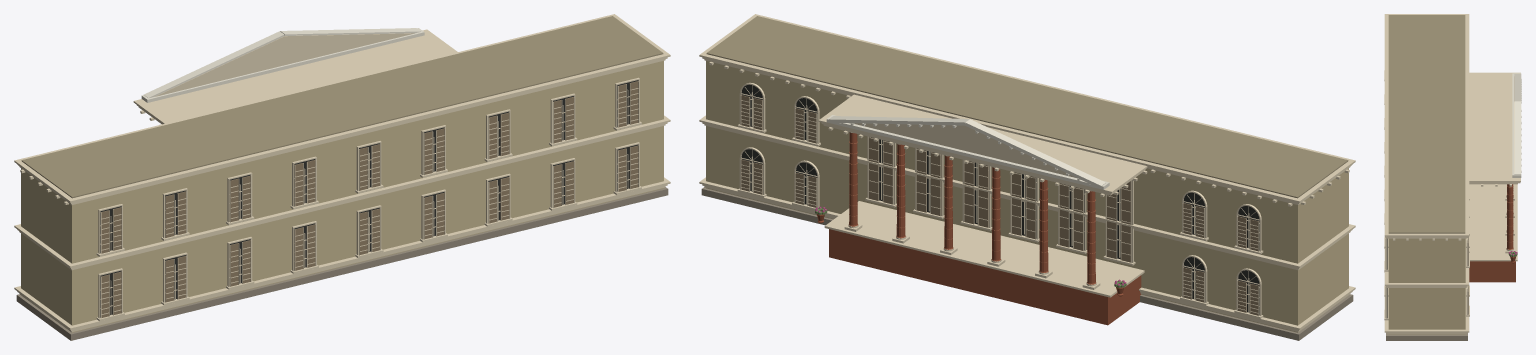
The model's file is KOL_T1_RAJBARI__01_Rear_Mansion.fbx.
The picture shows the model from 3 angles, left to right: view 1: azimuth 30°, elevation 25°; view 2: azimuth 150°, elevation 25°; view 3: azimuth 270°, elevation 25°; orthographic projection. The views are drawn at different scales.
Parts seen in each view (by area): view 1: KOL_T1_RAJBARI__01_Rear_Mansion__KOL_T1_EstatePlaster, KOL_T1_RAJBARI__01_Rear_Mansion__KOL_T1_EstateRoof, KOL_T1_RAJBARI__01_Rear_Mansion__KOL_T1_EstateIvory, KOL_T1_RAJBARI__01_Rear_Mansion__KOL_T1_EstateTaupe, KOL_T1_RAJBARI__01_Rear_Mansion__KOL_T1_EstateIvory.001, KOL_T1_RAJBARI__01_Rear_Mansion__KOL_T1_EstateStone, KOL_T1_RAJBARI__01_Rear_Mansion__KOL_T1_EstateIvory.002, KOL_T1_RAJBARI__01_Rear_Mansion__KOL_T1_EstateWhite, KOL_T1_RAJBARI__01_Rear_Mansion__KOL_T1_HeritageDark; view 2: KOL_T1_RAJBARI__01_Rear_Mansion__KOL_T1_EstateIvory, KOL_T1_RAJBARI__01_Rear_Mansion__KOL_T1_EstatePlaster, KOL_T1_RAJBARI__01_Rear_Mansion__KOL_T1_EstateRoof, KOL_T1_RAJBARI__01_Rear_Mansion__KOL_T1_EstateBrick, KOL_T1_RAJBARI__01_Rear_Mansion__KOL_T1_EstateTaupe, KOL_T1_RAJBARI__01_Rear_Mansion__KOL_T1_EstateWhite, KOL_T1_RAJBARI__01_Rear_Mansion__KOL_T1_HeritageDark, KOL_T1_RAJBARI__01_Rear_Mansion__KOL_T1_EstateIvory.001, KOL_T1_RAJBARI__01_Rear_Mansion__KOL_T1_EstateStone, KOL_T1_RAJBARI__01_Rear_Mansion__KOL_T1_EstateBrickLight; view 3: KOL_T1_RAJBARI__01_Rear_Mansion__KOL_T1_EstateRoof, KOL_T1_RAJBARI__01_Rear_Mansion__KOL_T1_EstateIvory, KOL_T1_RAJBARI__01_Rear_Mansion__KOL_T1_EstatePlaster, KOL_T1_RAJBARI__01_Rear_Mansion__KOL_T1_EstateBrick, KOL_T1_RAJBARI__01_Rear_Mansion__KOL_T1_EstateWhite, KOL_T1_RAJBARI__01_Rear_Mansion__KOL_T1_EstateStone, KOL_T1_RAJBARI__01_Rear_Mansion__KOL_T1_EstateIvory.002, KOL_T1_RAJBARI__01_Rear_Mansion__KOL_T1_EstateIvory.001.
Part boxes in pixels (x1=…): KOL_T1_RAJBARI__01_Rear_Mansion__KOL_T1_EstatePlaster: x1=21, y1=61, x2=663, y2=332; KOL_T1_RAJBARI__01_Rear_Mansion__KOL_T1_EstateRoof: x1=21, y1=16, x2=663, y2=198; KOL_T1_RAJBARI__01_Rear_Mansion__KOL_T1_EstateIvory: x1=14, y1=14, x2=670, y2=332; KOL_T1_RAJBARI__01_Rear_Mansion__KOL_T1_EstateTaupe: x1=101, y1=81, x2=638, y2=317; KOL_T1_RAJBARI__01_Rear_Mansion__KOL_T1_EstateIvory.001: x1=96, y1=125, x2=447, y2=321; KOL_T1_RAJBARI__01_Rear_Mansion__KOL_T1_EstateStone: x1=16, y1=187, x2=668, y2=340; KOL_T1_RAJBARI__01_Rear_Mansion__KOL_T1_EstateIvory.002: x1=423, y1=77, x2=641, y2=226; KOL_T1_RAJBARI__01_Rear_Mansion__KOL_T1_EstateWhite: x1=141, y1=28, x2=424, y2=102; KOL_T1_RAJBARI__01_Rear_Mansion__KOL_T1_HeritageDark: x1=100, y1=80, x2=637, y2=317; KOL_T1_RAJBARI__01_Rear_Mansion__KOL_T1_EstateIvory: x1=699, y1=14, x2=1355, y2=332; KOL_T1_RAJBARI__01_Rear_Mansion__KOL_T1_EstatePlaster: x1=706, y1=61, x2=1348, y2=332; KOL_T1_RAJBARI__01_Rear_Mansion__KOL_T1_EstateRoof: x1=706, y1=16, x2=1348, y2=198; KOL_T1_RAJBARI__01_Rear_Mansion__KOL_T1_EstateBrick: x1=816, y1=132, x2=1141, y2=325; KOL_T1_RAJBARI__01_Rear_Mansion__KOL_T1_EstateTaupe: x1=741, y1=95, x2=1258, y2=315; KOL_T1_RAJBARI__01_Rear_Mansion__KOL_T1_EstateWhite: x1=826, y1=115, x2=1109, y2=189; KOL_T1_RAJBARI__01_Rear_Mansion__KOL_T1_HeritageDark: x1=741, y1=84, x2=1259, y2=314; KOL_T1_RAJBARI__01_Rear_Mansion__KOL_T1_EstateIvory.001: x1=737, y1=82, x2=820, y2=210; KOL_T1_RAJBARI__01_Rear_Mansion__KOL_T1_EstateStone: x1=701, y1=187, x2=1353, y2=340; KOL_T1_RAJBARI__01_Rear_Mansion__KOL_T1_EstateBrickLight: x1=849, y1=141, x2=1095, y2=274; KOL_T1_RAJBARI__01_Rear_Mansion__KOL_T1_EstateRoof: x1=1388, y1=15, x2=1465, y2=233; KOL_T1_RAJBARI__01_Rear_Mansion__KOL_T1_EstateIvory: x1=1384, y1=14, x2=1520, y2=334; KOL_T1_RAJBARI__01_Rear_Mansion__KOL_T1_EstatePlaster: x1=1388, y1=238, x2=1465, y2=334; KOL_T1_RAJBARI__01_Rear_Mansion__KOL_T1_EstateBrick: x1=1469, y1=184, x2=1516, y2=282; KOL_T1_RAJBARI__01_Rear_Mansion__KOL_T1_EstateWhite: x1=1512, y1=73, x2=1521, y2=177; KOL_T1_RAJBARI__01_Rear_Mansion__KOL_T1_EstateStone: x1=1386, y1=333, x2=1467, y2=340; KOL_T1_RAJBARI__01_Rear_Mansion__KOL_T1_EstateIvory.002: x1=1384, y1=213, x2=1388, y2=320; KOL_T1_RAJBARI__01_Rear_Mansion__KOL_T1_EstateIvory.001: x1=1384, y1=70, x2=1469, y2=316.
Size of the model in its own units: 176 by 48.19 by 46.25.
